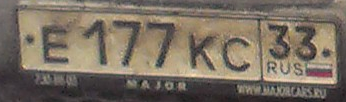character: (110, 17, 142, 69), (146, 21, 179, 71), (218, 31, 254, 76), (83, 17, 112, 68), (39, 23, 72, 66), (186, 31, 218, 75), (264, 22, 290, 62), (294, 24, 322, 60)
